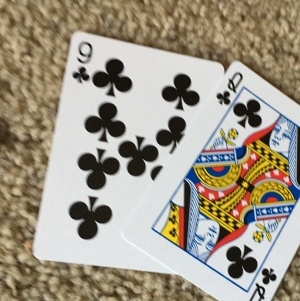card: (30, 29, 224, 272)
